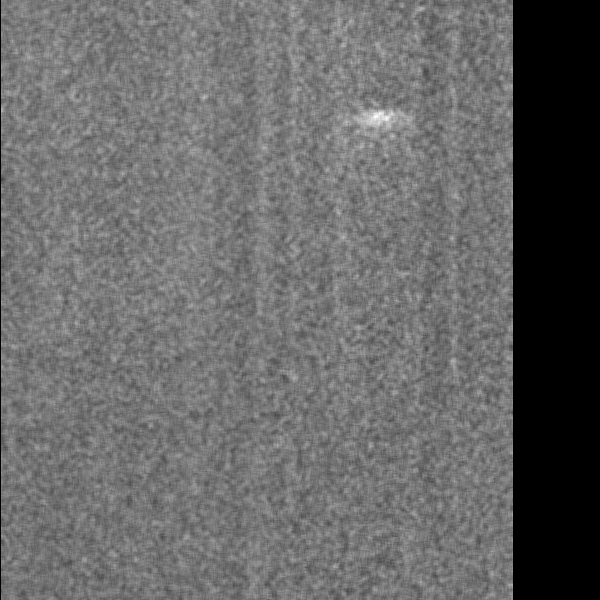spark: (342, 104, 414, 141)
